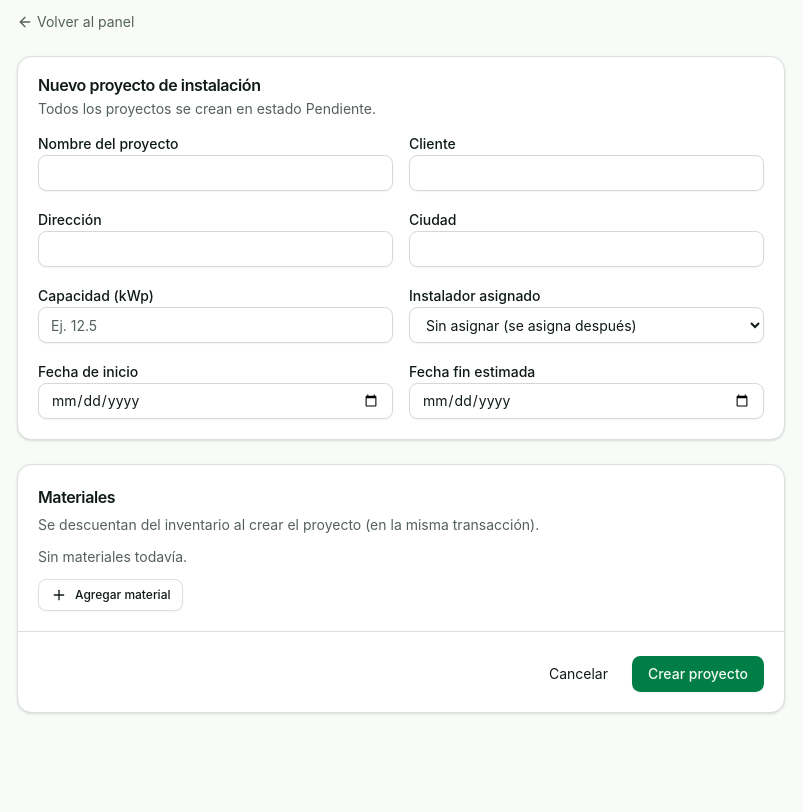
Test case: Formulario de nuevo proyecto (UI-04) › muestra el error del servidor y permite reintentar
The image size is (803, 812).
Expected: the heading "Nuevo proyecto de instalación" is shown, [38,75,260,95]
Type "Planta Solar Sabaneta" into the field labelled "Nombre del proyecto" at (216, 173), box [38,155,393,191]
Type "Industrias Sabaneta" into the field labelled "Cliente" at (586, 173), box [409,155,764,191]
Type "Carrera 43A # 60 Sur-20" into the field labelled "Dirección" at (216, 249), box [38,231,393,267]
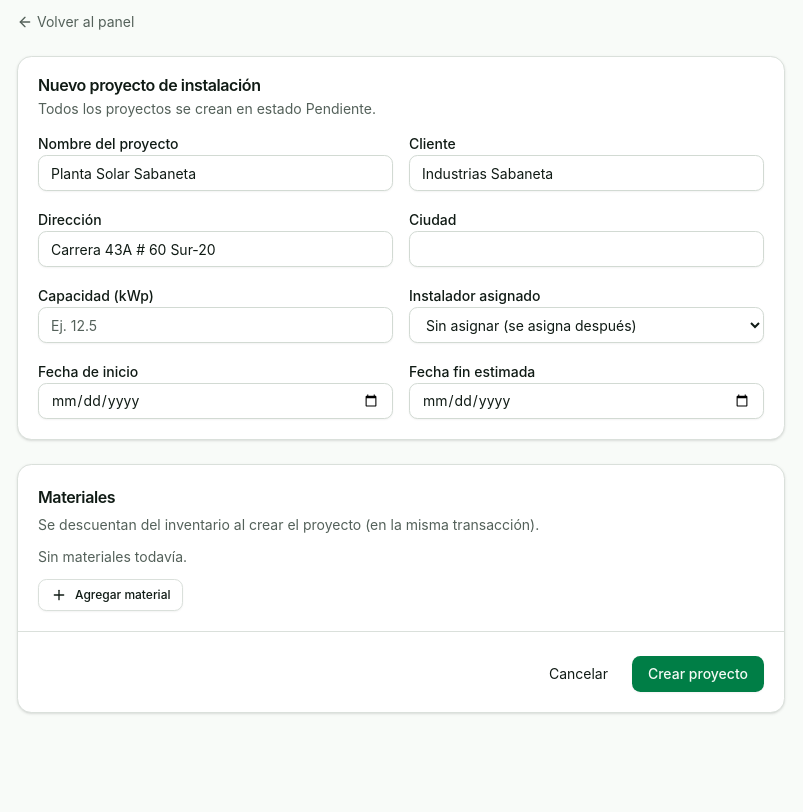
Type "Sabaneta" into the field labelled "Ciudad" at (586, 249), box [409,231,764,267]
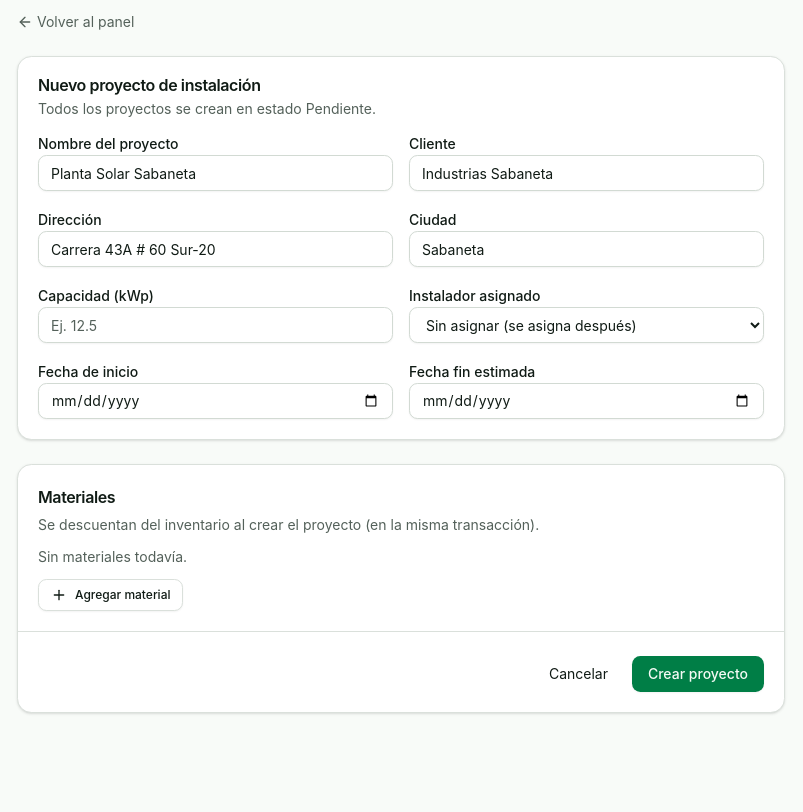
Type "30" into the field labelled "Capacidad (kWp)" at (216, 325), box [38,307,393,343]
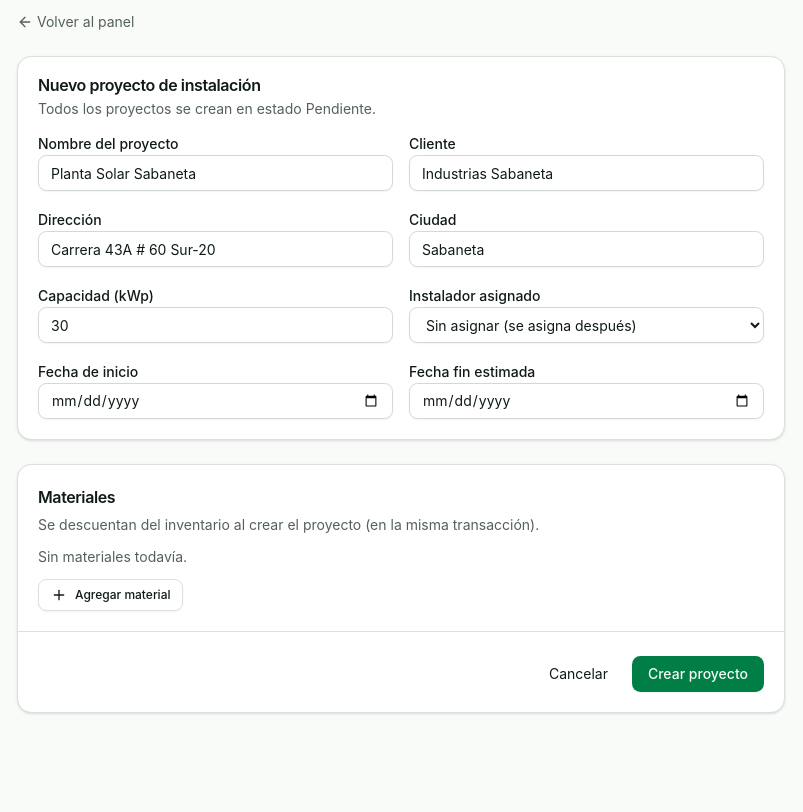
Type "2027-02-01" into the date field labelled "Fecha de inicio" at (216, 401), box [38,383,393,419]
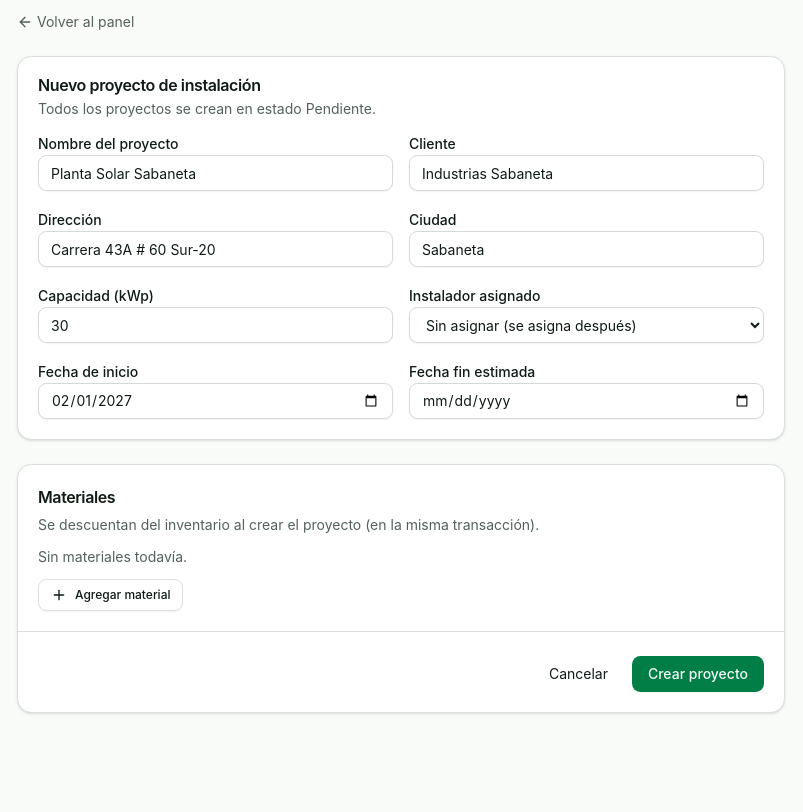
Type "2027-02-15" into the date field labelled "Fecha fin estimada" at (586, 401), box [409,383,764,419]
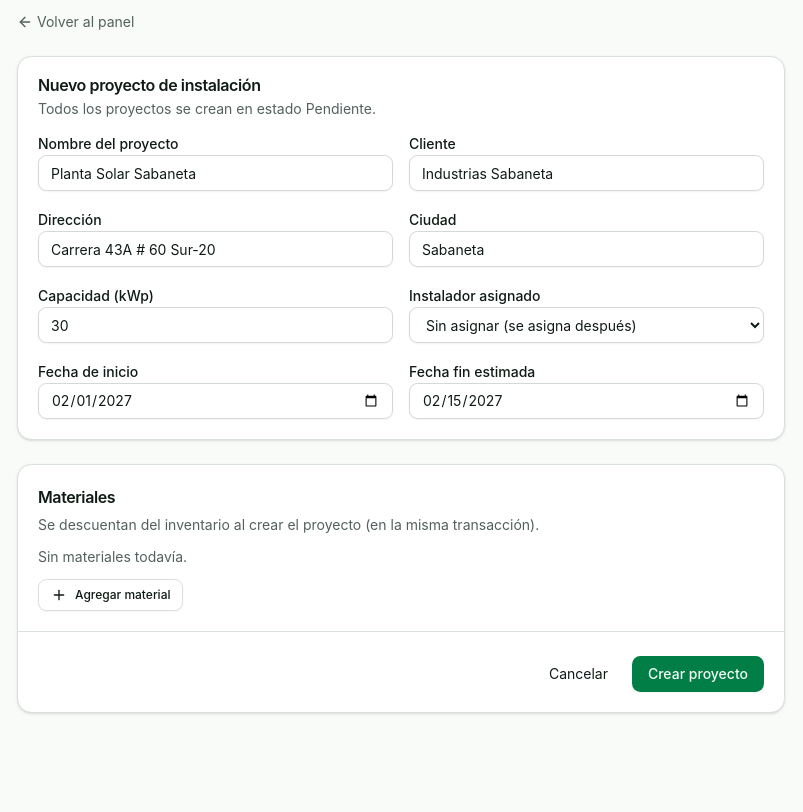
Click the button "Crear proyecto" at (698, 674), box [632,656,764,692]
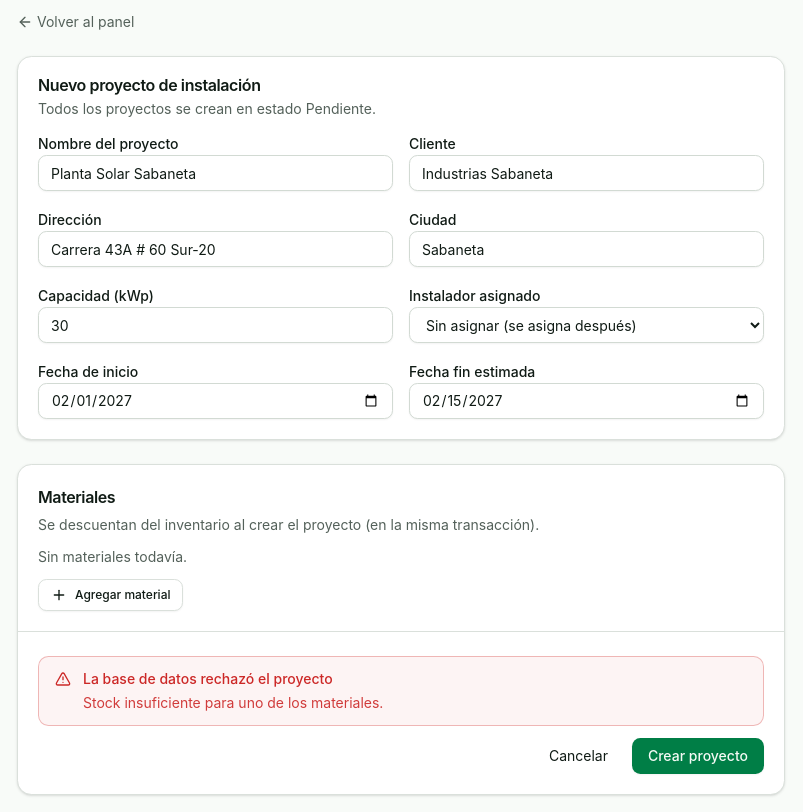
Expected: the button "Crear proyecto" is enabled, [632,738,764,774]
Expected: the text "Stock insuficiente para uno de los materiales." is shown, [83,694,383,711]
